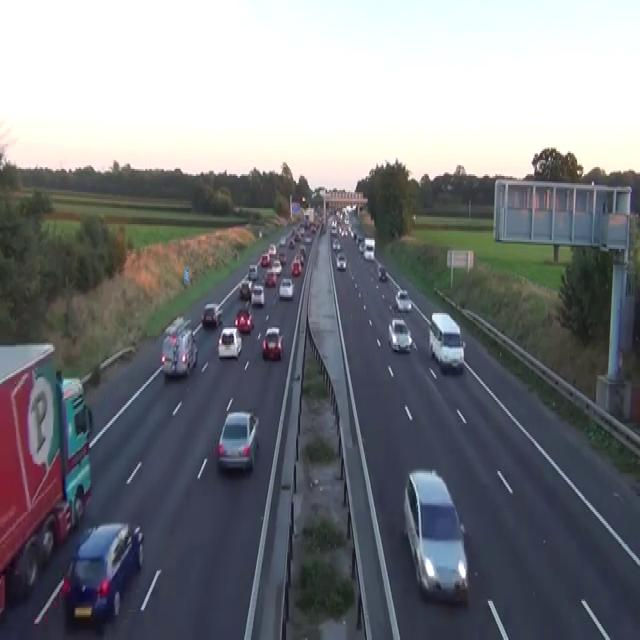Car: (61, 521, 144, 626), (403, 468, 468, 602), (216, 411, 259, 471), (160, 327, 197, 377), (388, 316, 412, 352), (217, 325, 242, 359), (262, 325, 283, 359), (201, 302, 223, 327), (61, 377, 83, 400), (163, 315, 184, 336), (234, 310, 254, 332), (395, 288, 412, 311), (278, 277, 294, 299), (250, 282, 264, 306), (239, 277, 252, 299), (264, 270, 276, 286), (336, 252, 346, 270), (290, 260, 301, 276), (377, 263, 386, 281), (248, 263, 258, 279), (260, 252, 270, 266), (272, 260, 282, 274), (332, 238, 340, 251), (389, 302, 397, 315), (330, 220, 337, 234), (358, 238, 365, 252), (278, 251, 286, 263), (299, 245, 306, 258), (268, 244, 276, 254), (294, 253, 302, 263), (357, 235, 364, 245), (298, 224, 304, 235), (304, 234, 311, 243), (340, 228, 347, 236), (321, 222, 326, 233), (310, 224, 316, 233), (288, 240, 294, 249), (294, 231, 300, 240), (280, 235, 285, 245), (344, 215, 349, 224), (301, 196, 306, 204), (353, 231, 357, 240), (258, 230, 262, 238)
Truck: (0, 341, 92, 619), (428, 311, 465, 373)
